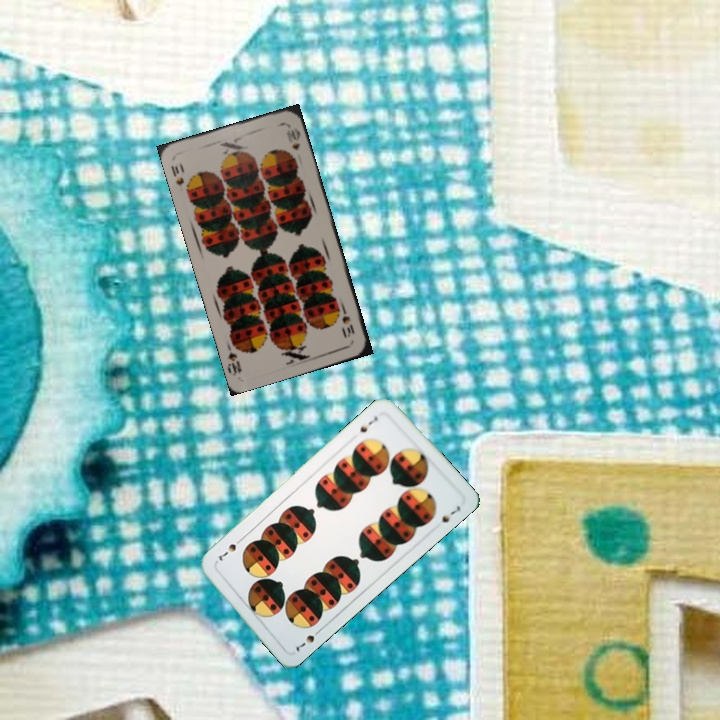S10: (338, 303, 357, 340), (167, 161, 187, 188)
S7: (292, 625, 324, 655), (356, 412, 380, 435)
